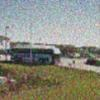buses: (10, 45, 60, 67)
